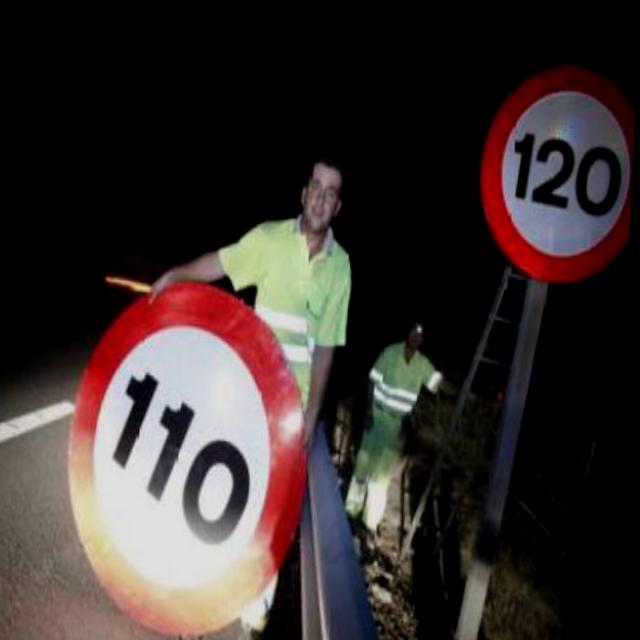limit120: (471, 48, 639, 289)
